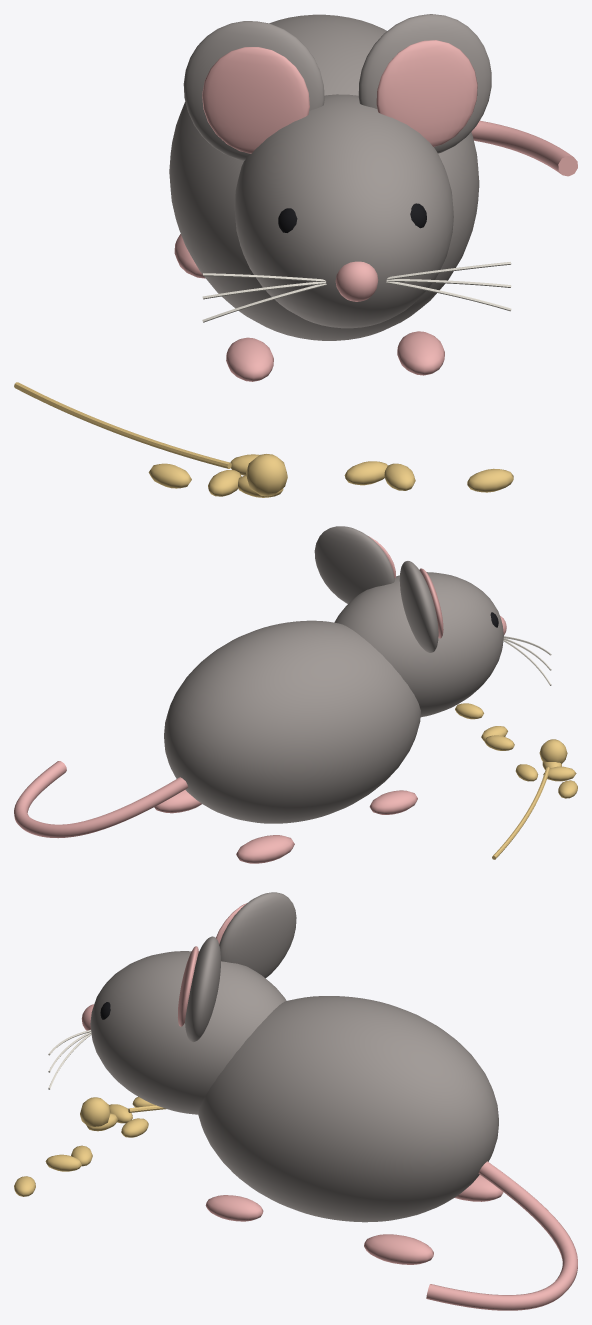
File: mouse.glb
3 renders of one model, top to bottom at view 1: azimuth 30°, elevation 25°; view 2: azimuth 150°, elevation 25°; view 3: azimuth 270°, elevation 25°, orthographic. The views are drawn at different scales.
Parts seen in each view (by area): view 1: head, body, earin, earin.001, ear, ear.001, tail, stalk, foot, foot.002, ear.002, snout (+5 smaller); view 2: body, head, ear.001, tail, ear, foot.001, foot, foot.003, ear.002, stalk, earin; view 3: body, head, tail, ear, ear.001, foot.003, foot.002, foot.001, earin.001, ear.002.
Boxes of the visible parts, x1,y1,x2,y2 form: head: (234, 94, 453, 328); body: (169, 14, 479, 340); earin: (202, 47, 309, 153); earin.001: (376, 40, 477, 146); ear: (183, 21, 324, 160); ear.001: (358, 14, 491, 153); tail: (471, 120, 577, 176); stalk: (14, 382, 231, 468); foot: (226, 337, 273, 381); foot.002: (397, 331, 444, 375); ear.002: (246, 454, 287, 496); snout: (335, 261, 378, 301); body: (164, 620, 420, 823); head: (334, 572, 503, 717); ear.001: (314, 526, 394, 603); tail: (14, 761, 188, 838); ear: (399, 561, 438, 652); foot.001: (236, 835, 294, 863); foot: (369, 790, 417, 814); foot.003: (154, 790, 201, 813); ear.002: (539, 739, 567, 763); stalk: (492, 767, 549, 859); earin: (419, 568, 443, 638); body: (198, 996, 498, 1222); head: (90, 951, 286, 1114); tail: (426, 1161, 577, 1310); ear: (219, 892, 296, 978); ear.001: (185, 936, 220, 1042); foot.003: (364, 1234, 433, 1264); foot.002: (205, 1195, 263, 1221); foot.001: (454, 1175, 503, 1201); earin.001: (177, 946, 198, 1026); ear.002: (80, 1097, 110, 1126).
Size of the model in its own units: 1.68 by 0.9474 by 1.78.
